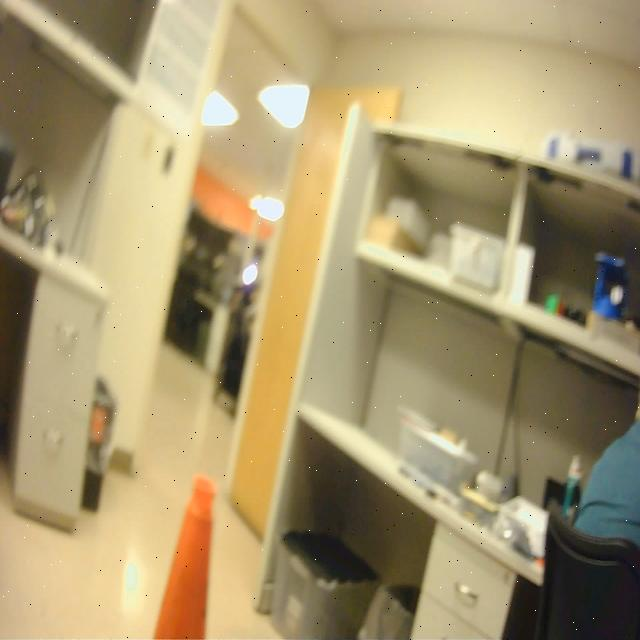traffic cone: (143, 467, 223, 640)
